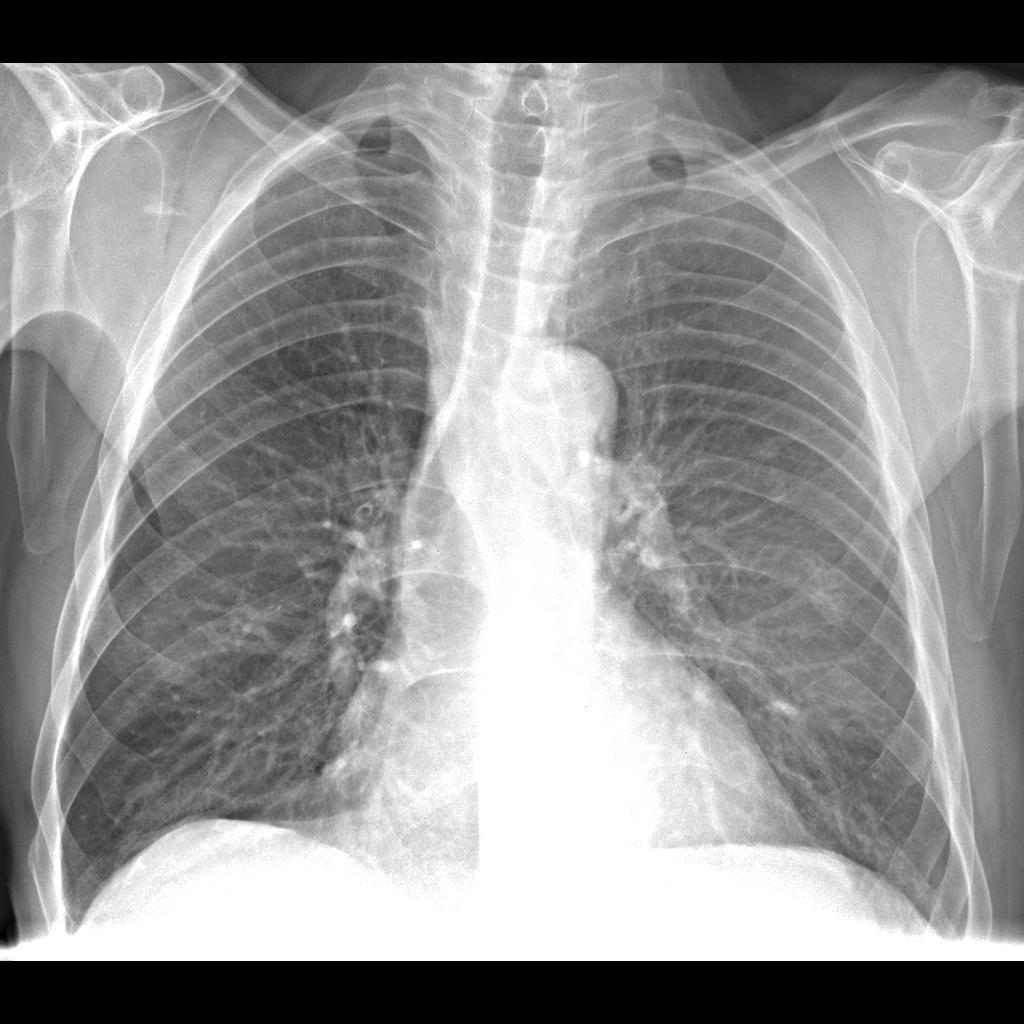Nodule: (582, 755, 672, 850)
